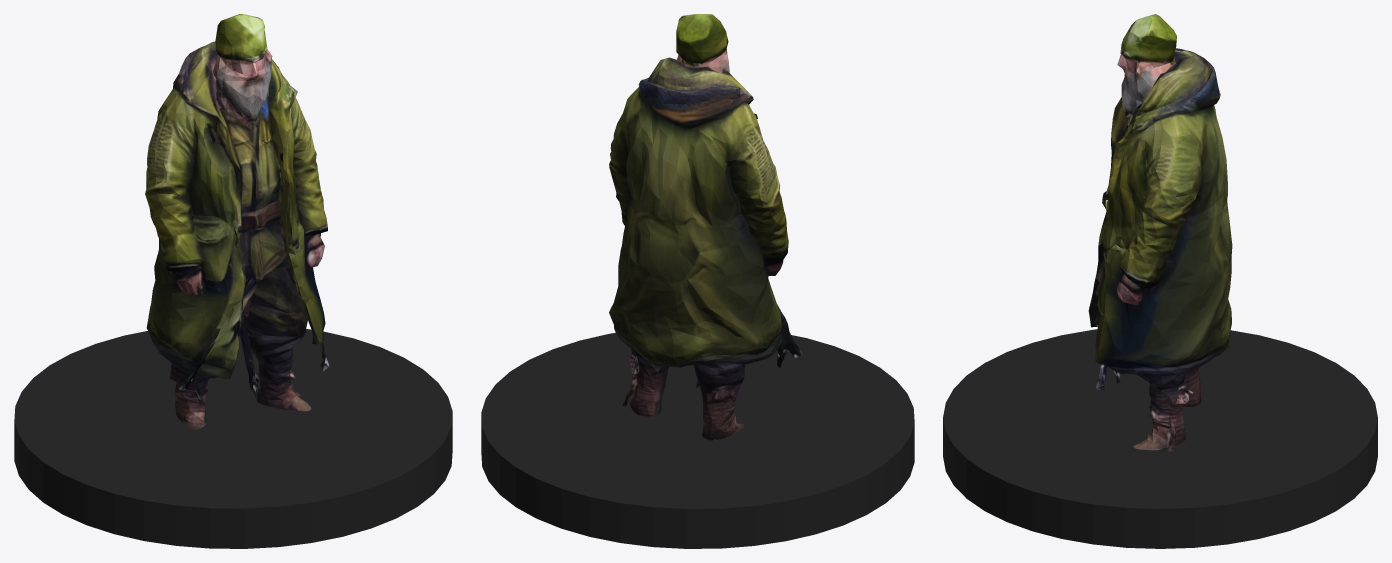
The model's file is andrew-evans.glb.
3 renders of one model, left to right at view 1: azimuth 30°, elevation 25°; view 2: azimuth 150°, elevation 25°; view 3: azimuth 270°, elevation 25°, orthographic.
Visible parts, largest first — view 1: base, figure; view 2: base, figure; view 3: base, figure.
Part boxes in pixels (x1,y1,x2,y2): base: (14, 329, 452, 548); figure: (145, 14, 329, 429); base: (481, 333, 914, 548); figure: (609, 14, 801, 440); base: (943, 329, 1377, 548); figure: (1088, 14, 1232, 451).
Bounding box in the file's own units: 1.18 × 1.32 × 1.18.
Materials: 2 (1 with a texture image).
